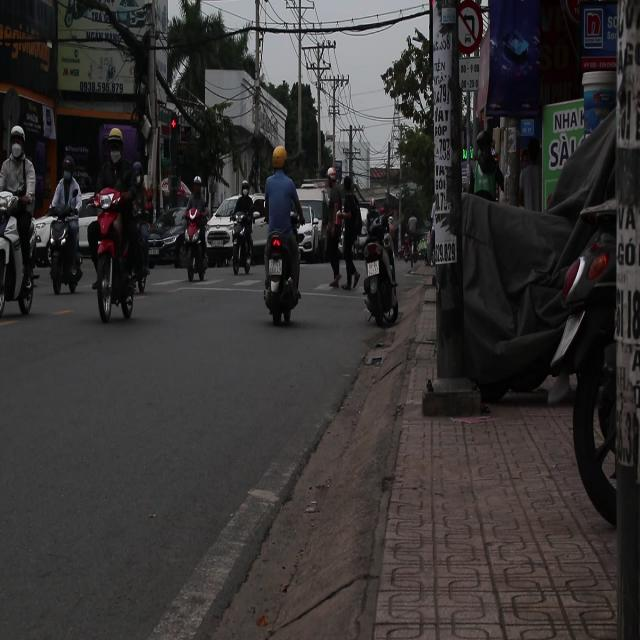car: (147, 209, 188, 266), (296, 194, 328, 262)
motorbike: (93, 207, 143, 329), (0, 202, 44, 317), (361, 213, 400, 329), (267, 227, 297, 331), (49, 214, 83, 297), (230, 194, 250, 279), (183, 237, 209, 284)
